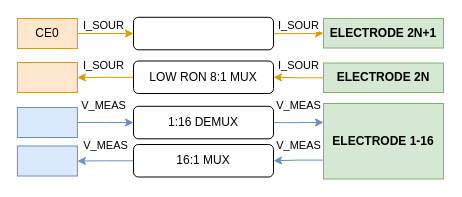
Image size: 462x197. Some labels were removed from this diagram. The centre of each missing label's shape, as x and y in pixels:
"AIN1" belongs at (x=46, y=77).
"AIN2" belongs at (x=46, y=122).
"AIN3" belongs at (x=46, y=160).
"LOW RON 1:8 DEMUX" belongs at (x=203, y=33).
